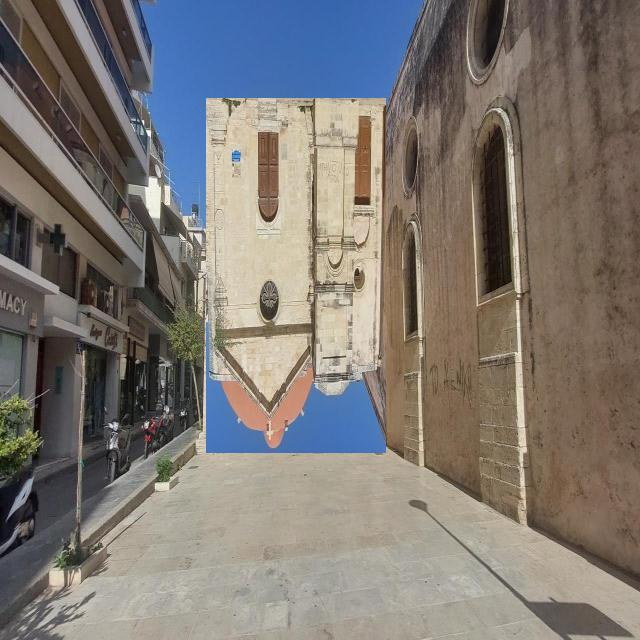Agia Aikaterini: (207, 99, 387, 454)
